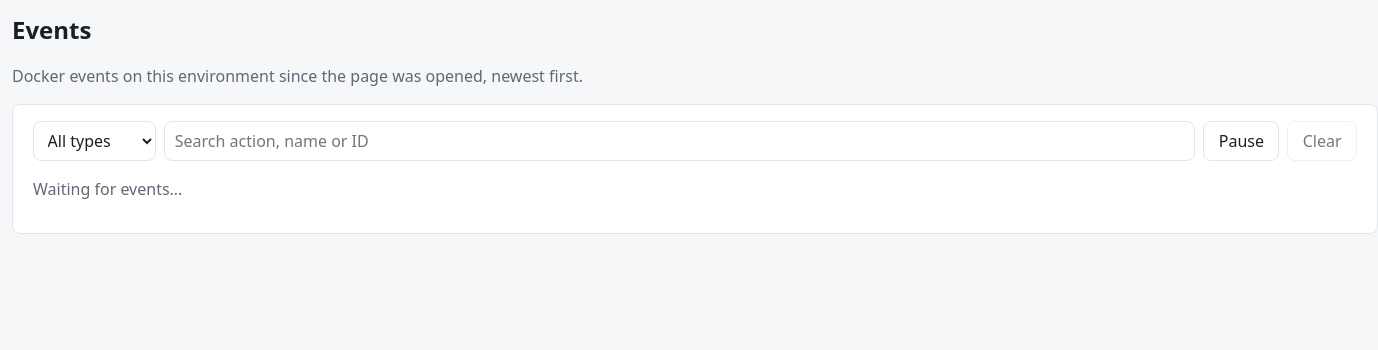
it: EventsView › pauses, clears and shows a dropped stream
Click the button "Pause" at (1241, 141), box [1203,121,1279,161]
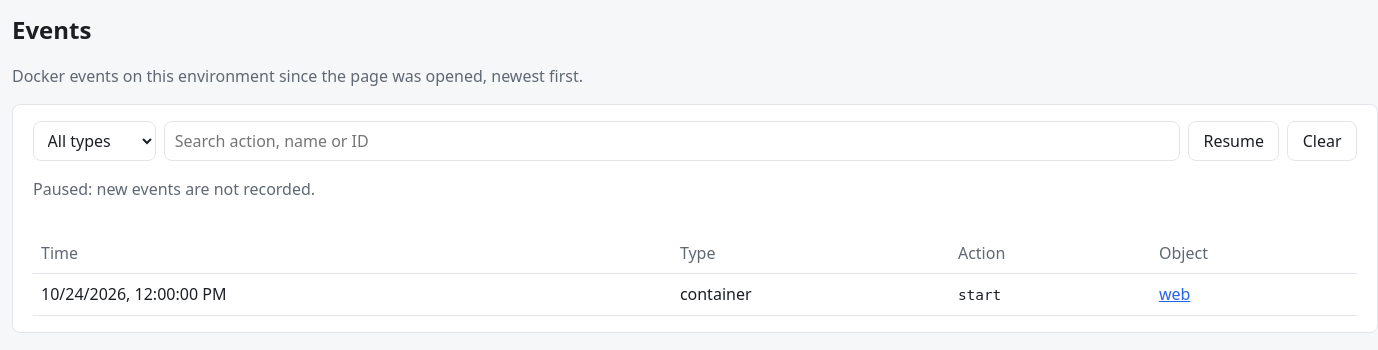
Now the text "Paused" is shown, box [33,178,315,200]
Click the button "Clear" at (1322, 141), box [1287,121,1357,161]
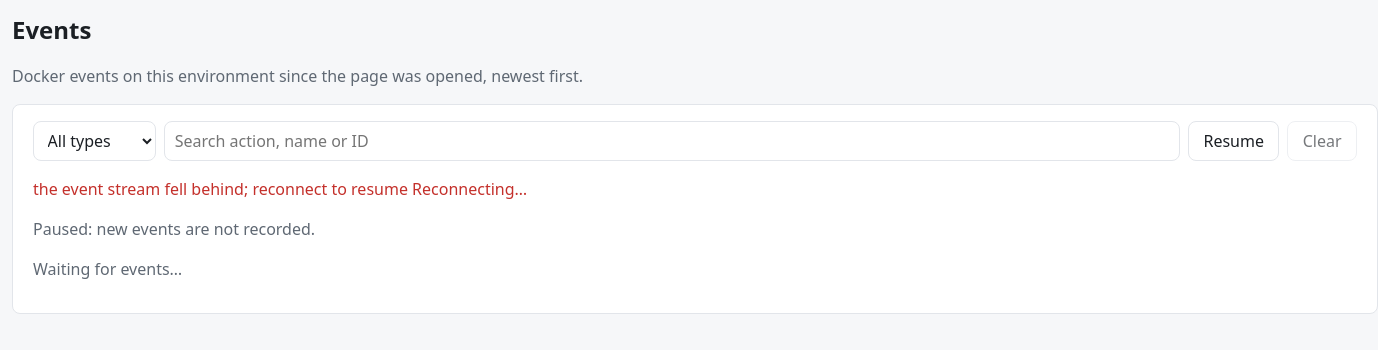
Now the text "Waiting for events" is shown, box [33,258,182,280]
Now the message "the event stream fell behind; reconnect to resume Reconnecting…" is shown, box [33,178,527,200]
